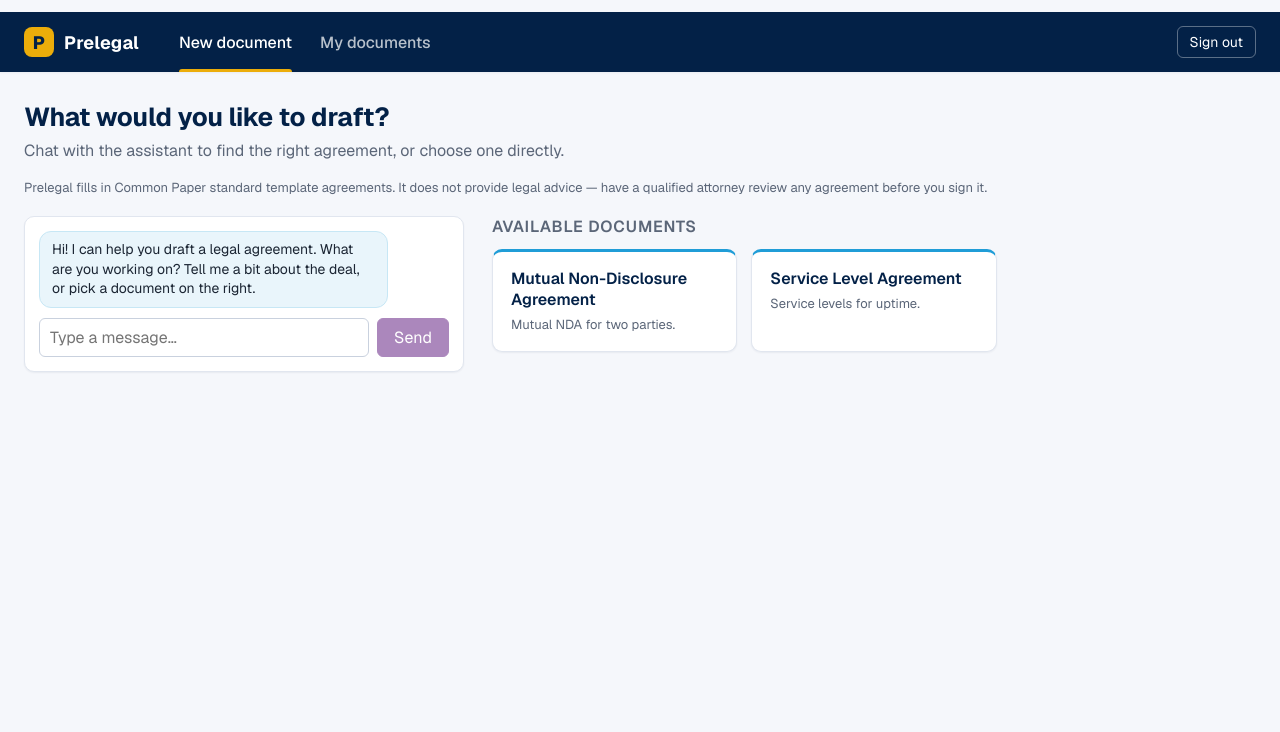
Test: Home: choosing a document › an unsupported request gets the assistant's alternative and stays on the start screen
Type "I need an employment contract" into the field labelled "message" at (204, 337), box [39, 318, 369, 357]
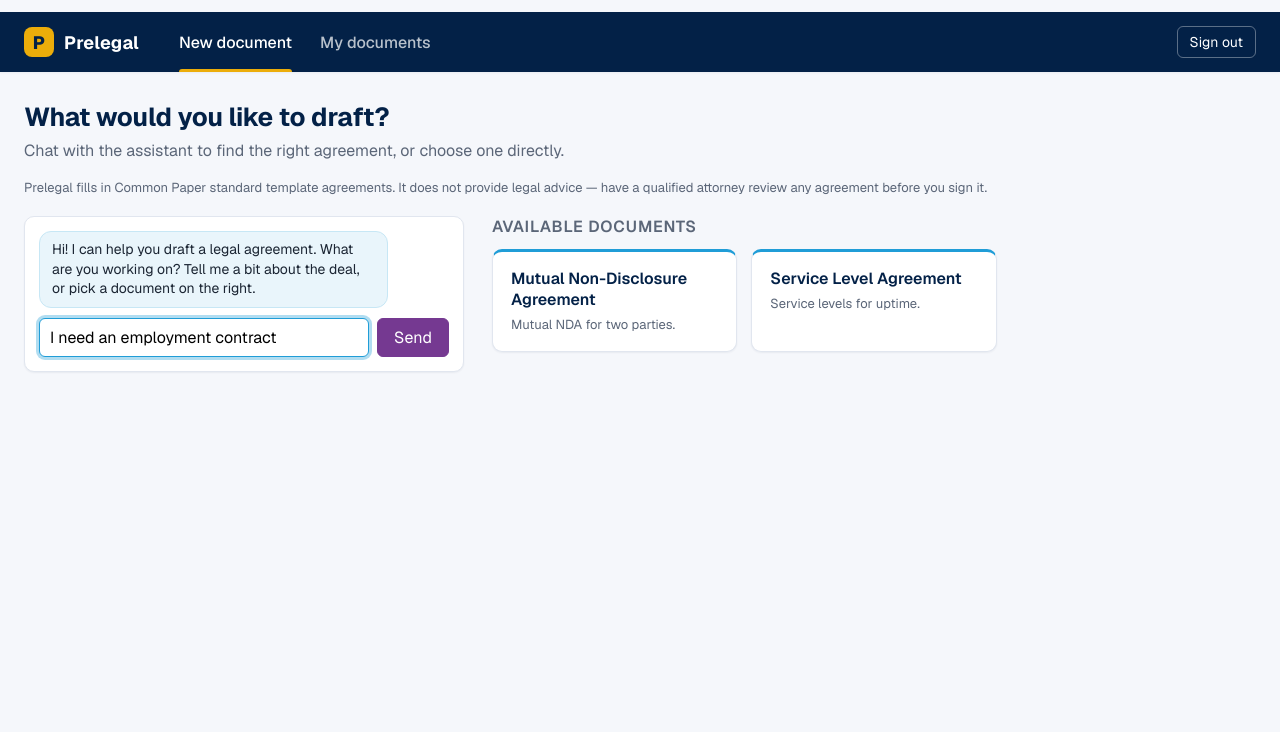
Click the button "Send" at (413, 337), box [377, 318, 449, 357]
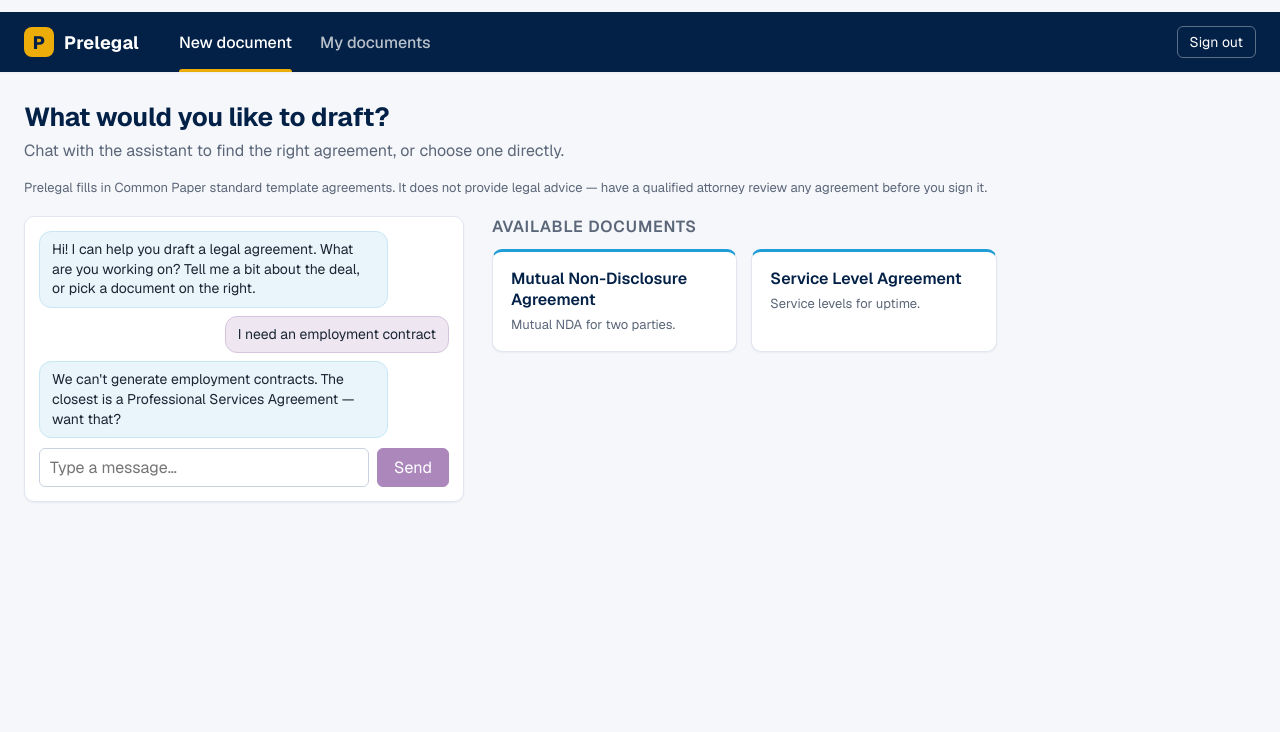
Expected: the heading "What would you like to draft?" is shown, [24, 100, 389, 134]
Now the list item "can't generate employment contracts" is shown, box [52, 370, 358, 428]
